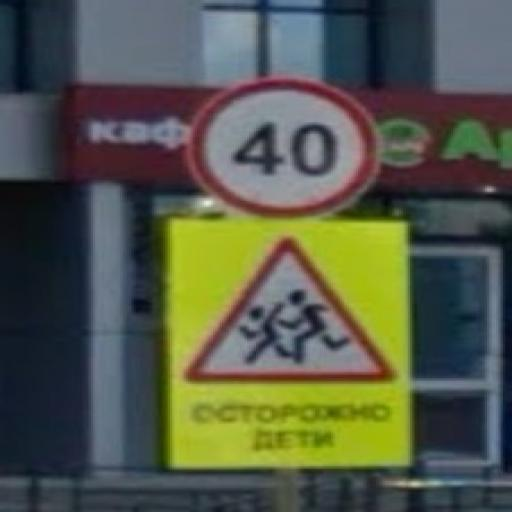traffic_sign: (187, 238, 397, 387), (189, 79, 377, 219)
